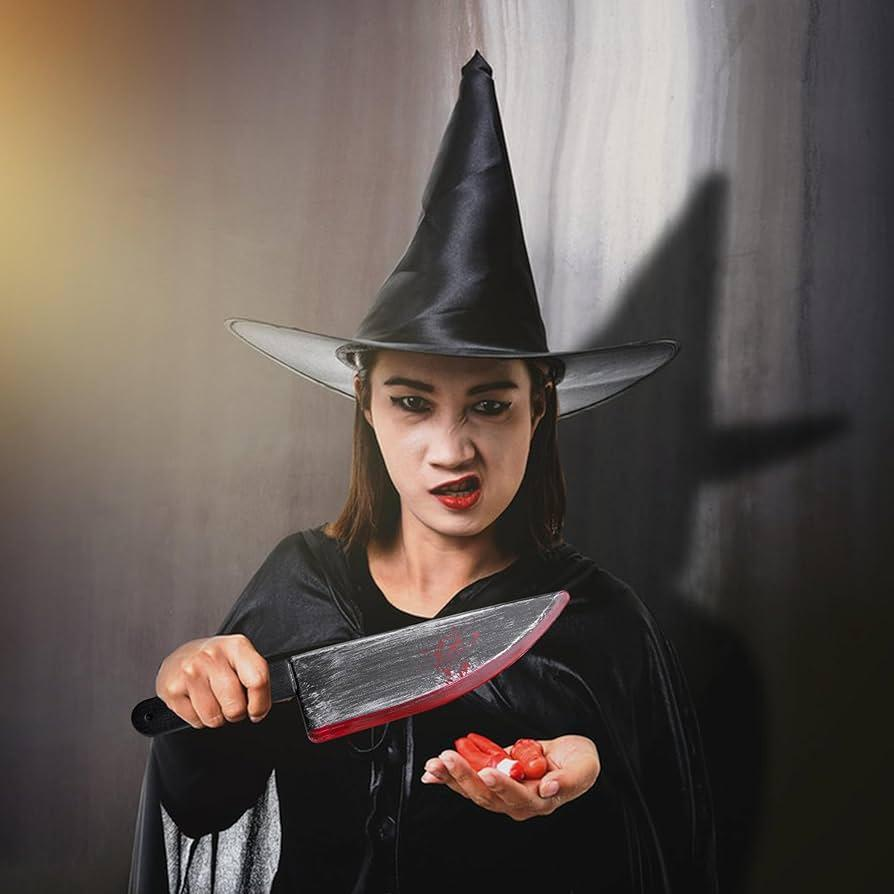Knife: (137, 49, 723, 894), (268, 591, 573, 744), (153, 634, 279, 731)
